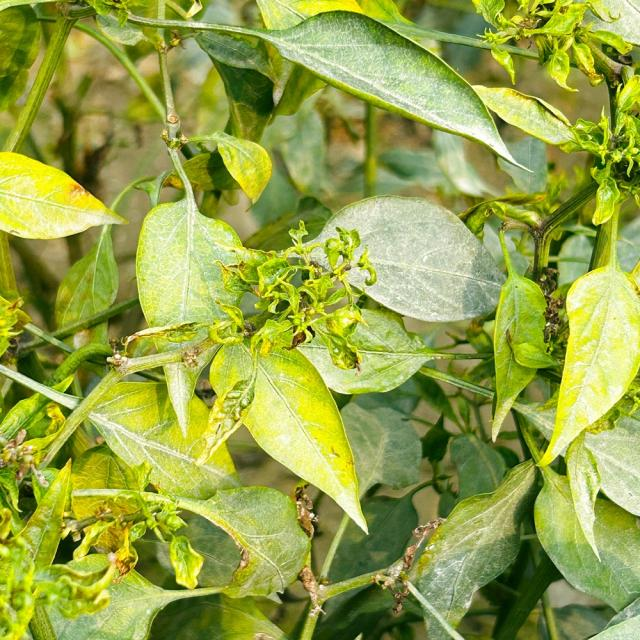Chilli_Leaf_Curl: (1, 1, 638, 638), (28, 147, 506, 543), (254, 6, 534, 172), (306, 193, 507, 324), (238, 342, 370, 536), (400, 457, 541, 638), (535, 262, 639, 468), (134, 196, 249, 335), (0, 149, 128, 241), (488, 268, 553, 444), (162, 129, 272, 208)
